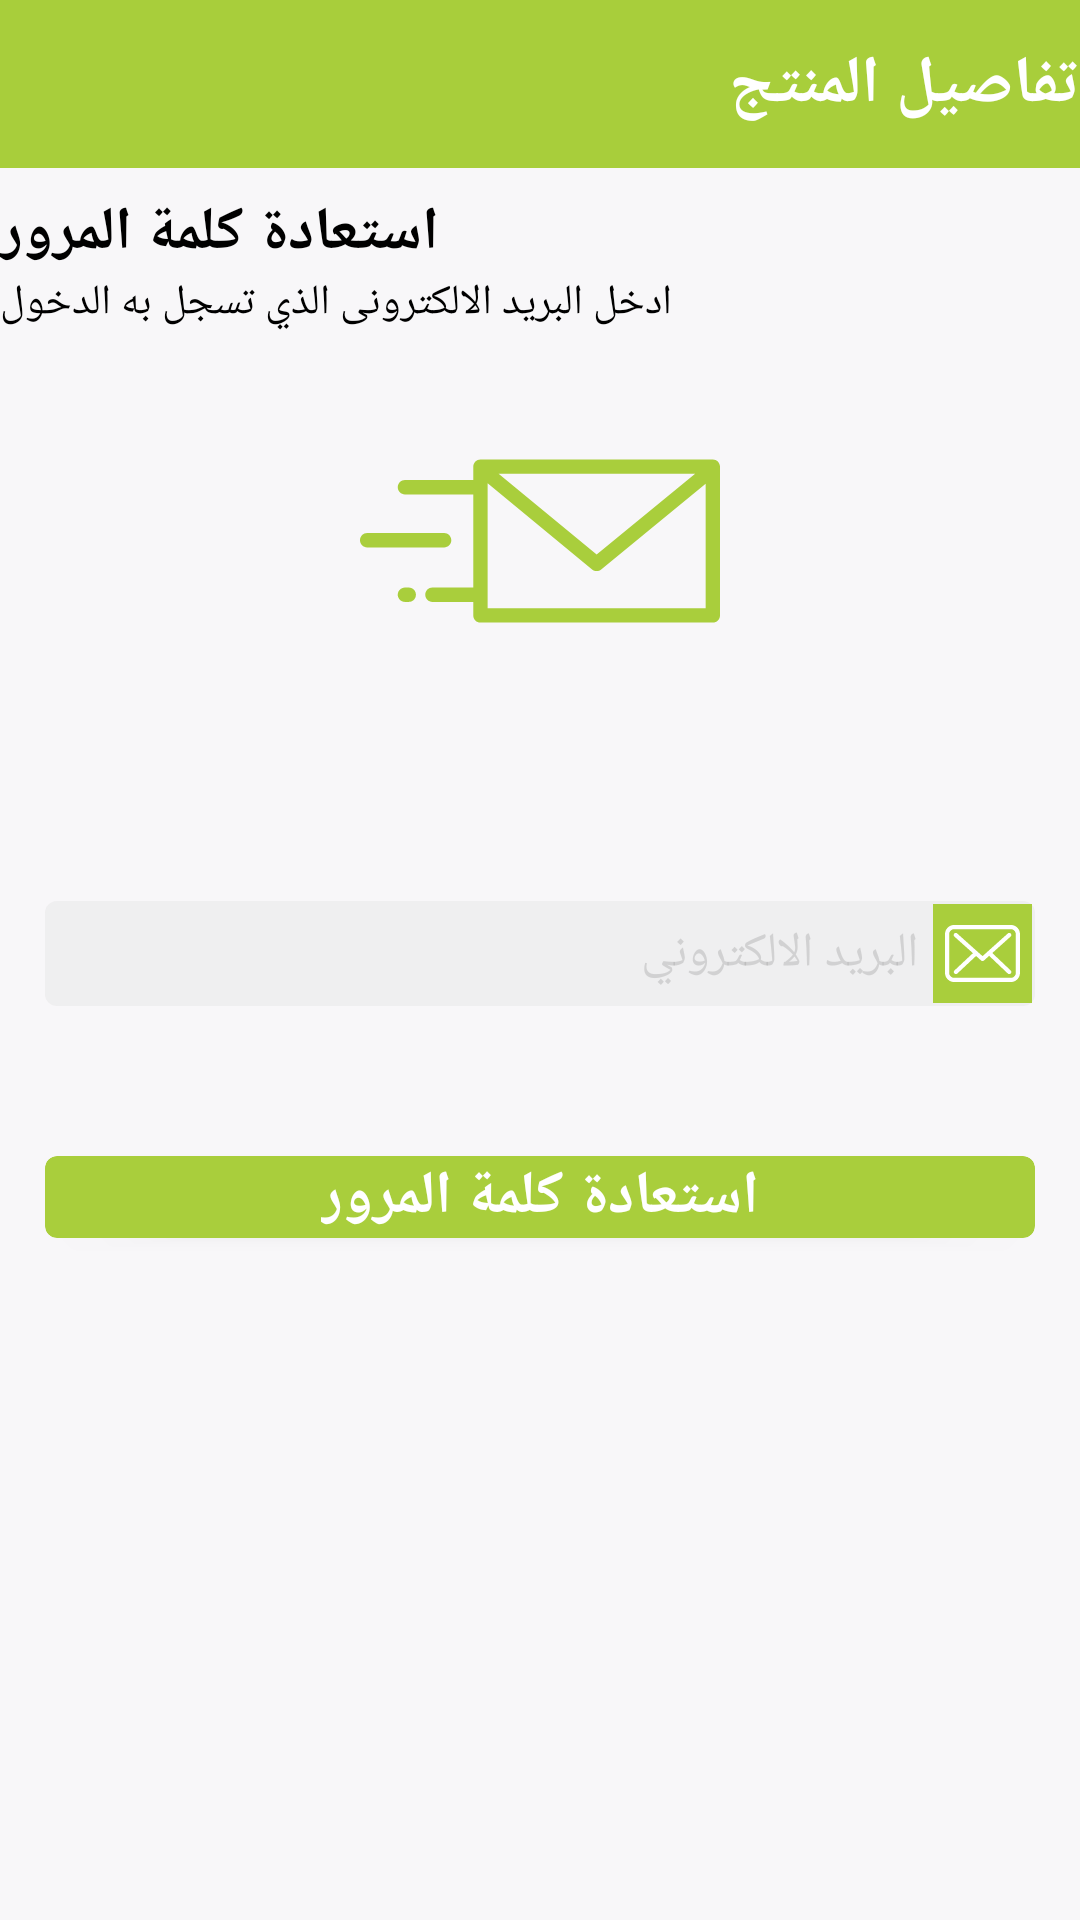

Locate icon controls on the screen. Image size 1080 x 1920, boxes as box(x1, y1, x2, y2).
email: box(933, 904, 1032, 1003)
send: box(360, 459, 720, 623)
